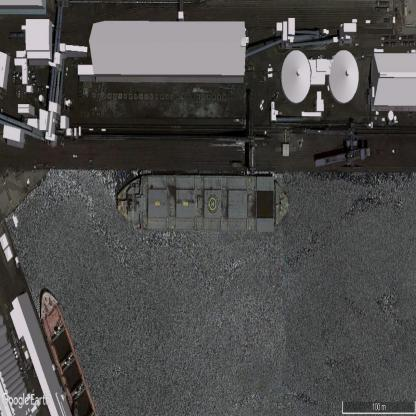ship: (118, 174, 289, 232), (39, 288, 99, 416)
